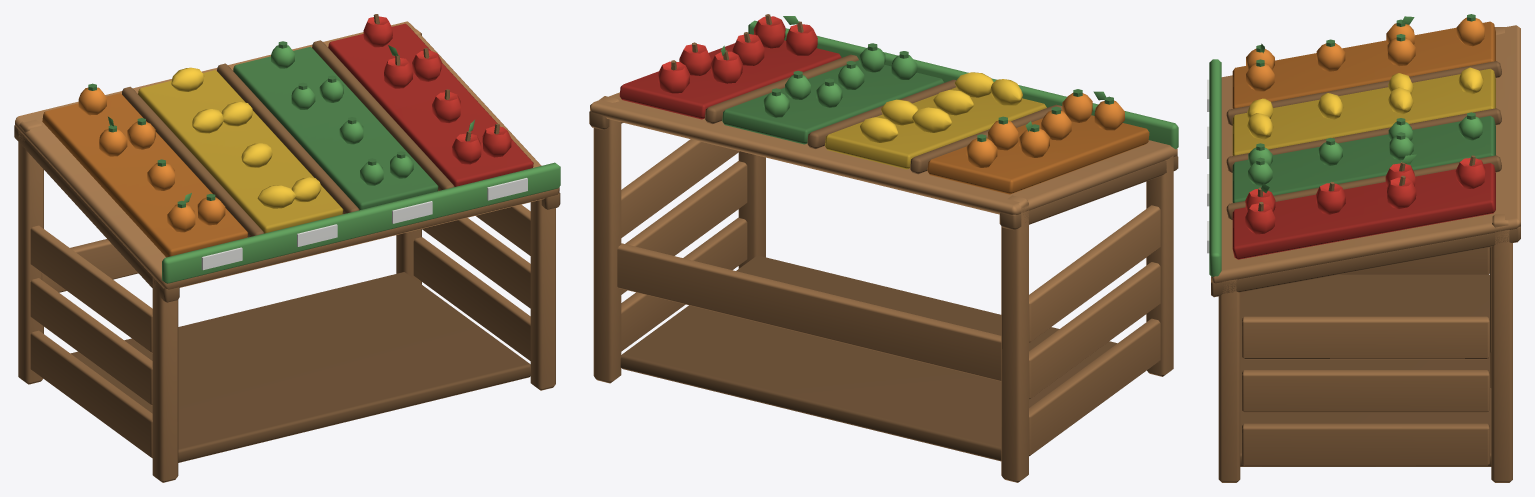
The model's file is ProduceTable_15_Mixed.glb.
3 renders of one model, left to right at view 1: azimuth 30°, elevation 25°; view 2: azimuth 150°, elevation 25°; view 3: azimuth 270°, elevation 25°, orthographic. The views are drawn at different scales.
Visible parts, largest first — view 1: SM_ProduceTable_15_Mixed; view 2: SM_ProduceTable_15_Mixed; view 3: SM_ProduceTable_15_Mixed.
Part boxes in pixels (left/top/right/bottom): SM_ProduceTable_15_Mixed: left=14, top=14, right=560, bottom=482; SM_ProduceTable_15_Mixed: left=589, top=14, right=1178, bottom=482; SM_ProduceTable_15_Mixed: left=1207, top=14, right=1520, bottom=482.
Bounding box in the file's own units: 1.5 × 1.07 × 1.01.
Materials: 1 (1 with a texture image).
